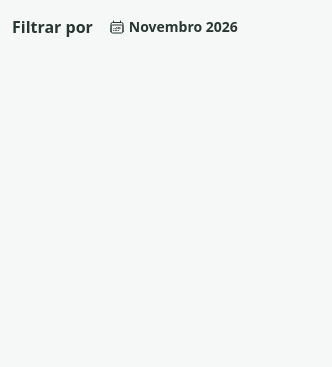
bloqueia a aplicação do ano inválido 202 e preserva o período
The width and height of the screenshot is (332, 367).
Later steps or results of the test are not shown.
Click the heading named "Mês e ano" at (173, 26), box [101,12,246,41]
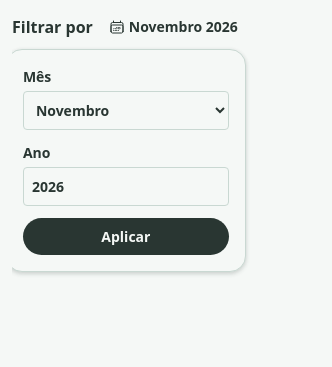
Replace the text in the number field labelled "Ano" with "202" at (126, 186), box [23,167,229,206]
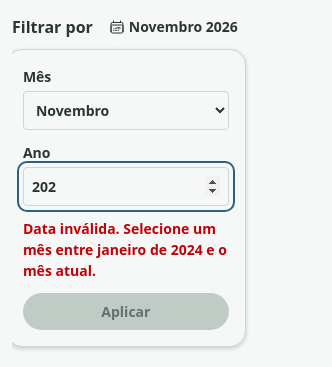
Check: the message shows "Data inválida", box [23,219,227,280]
Check: the message "Data inválida. Selecione um mês entre janeiro de 2024 e o mês atual." is shown, box [23,218,229,281]
Check: the button "Aplicar" is disabled, box [23,293,229,330]
